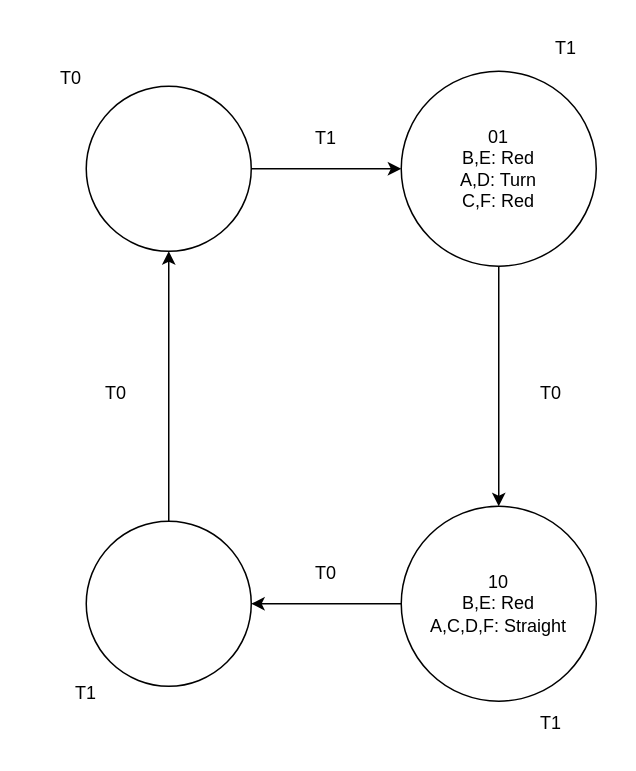
Image size: 636x771. Some labels were removed from this diagram. Here are the shapes that lost their labels. From the top down, the centre of each, then its label:
pixel 168 168: 00 B,E: Green A,C,D,F: Red
pixel 168 603: S3 B,E:Red C,F: Turn A,D: Red
